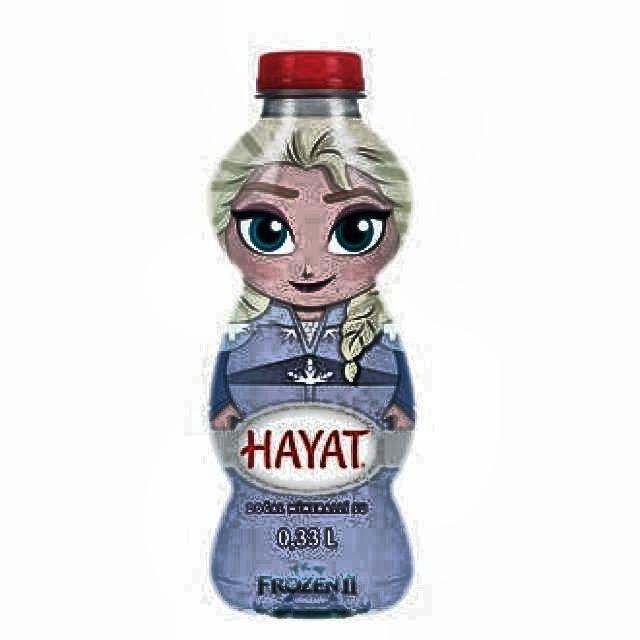plastic: (209, 51, 416, 618)
